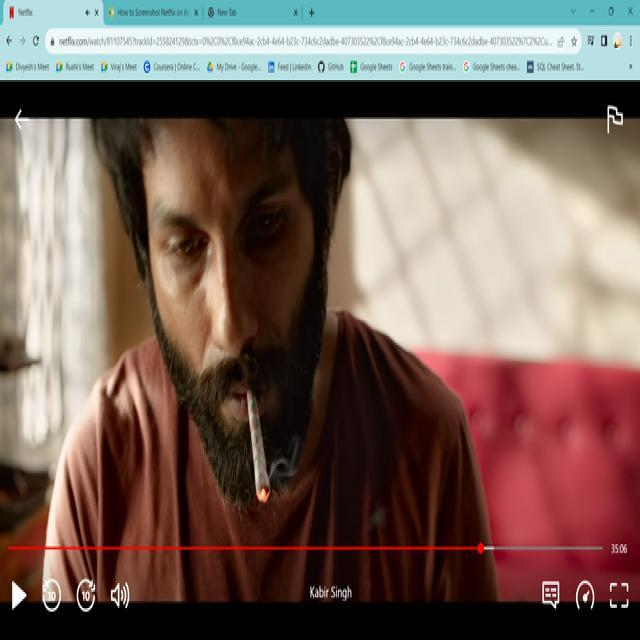smoking: (244, 374, 279, 516)
